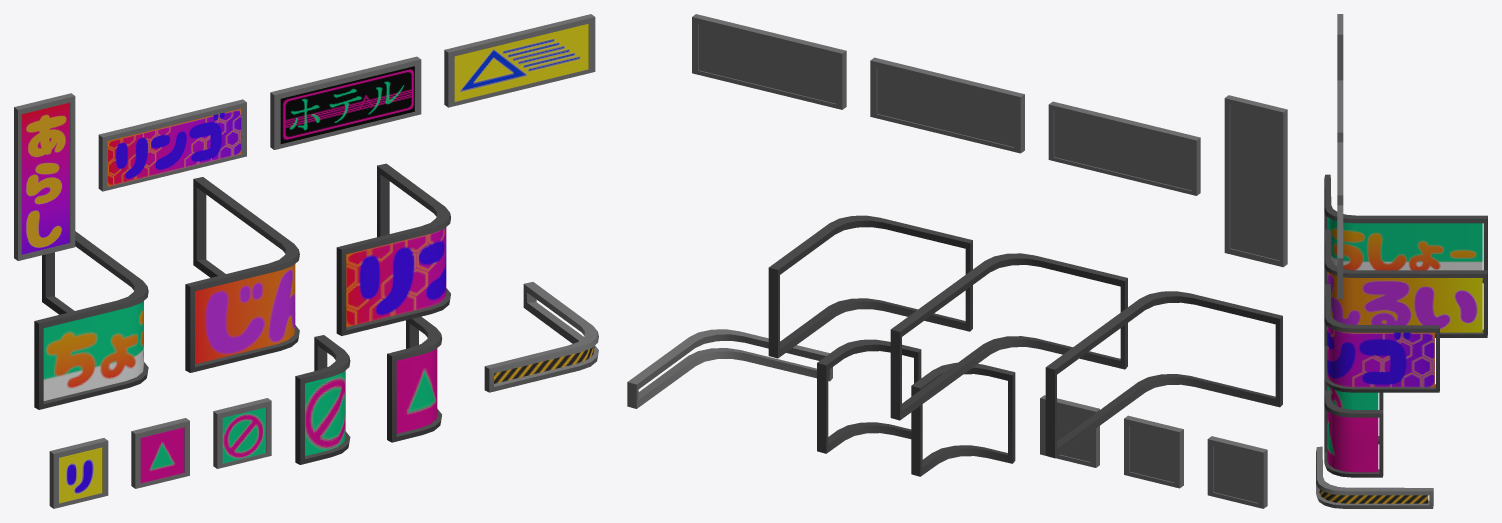
File: signs.glb
The picture shows the model from 3 angles, left to right: view 1: azimuth 30°, elevation 25°; view 2: azimuth 150°, elevation 25°; view 3: azimuth 270°, elevation 25°; orthographic projection. The views are drawn at different scales.
Visible parts, largest first — view 1: Sign_Corner_2, Sign_Corner_3, Sign_Corner_1, Sign_4, Sign_2, Sign_1, Sign_3, Sign_Corner_Small2, Sign_Corner_Small1, Sign_Corner_Hazard, Sign_Small_3, Sign_Small_2 (+1 smaller); view 2: Sign_4, Sign_1, Sign_2, Sign_3, Sign_Corner_3, Sign_Corner_2, Sign_Corner_1, Sign_Corner_Hazard, Sign_Small_3, Sign_Small_2, Sign_Corner_Small2, Sign_Corner_Small1 (+1 smaller); view 3: Sign_Corner_2, Sign_Corner_3, Sign_Corner_1, Sign_Corner_Small1, Sign_Corner_Hazard, Sign_Corner_Small2, Sign_1, Sign_4, Sign_2, Sign_3.
Boxes of the visible parts, left/top/right/bottom form: Sign_Corner_2: left=185, top=177, right=299, bottom=372; Sign_Corner_3: left=34, top=231, right=148, bottom=409; Sign_Corner_1: left=336, top=163, right=450, bottom=335; Sign_4: left=14, top=93, right=75, bottom=260; Sign_2: left=270, top=56, right=421, bottom=149; Sign_1: left=444, top=14, right=595, bottom=107; Sign_3: left=98, top=99, right=246, bottom=191; Sign_Corner_Small2: left=295, top=335, right=350, bottom=464; Sign_Corner_Small1: left=387, top=316, right=442, bottom=442; Sign_Corner_Hazard: left=484, top=282, right=598, bottom=392; Sign_Small_3: left=49, top=438, right=108, bottom=508; Sign_Small_2: left=131, top=418, right=189, bottom=488; Sign_4: left=1224, top=95, right=1287, bottom=267; Sign_1: left=692, top=14, right=846, bottom=109; Sign_2: left=870, top=57, right=1024, bottom=153; Sign_3: left=1048, top=101, right=1200, bottom=195; Sign_Corner_3: left=1045, top=291, right=1282, bottom=458; Sign_Corner_2: left=890, top=253, right=1127, bottom=420; Sign_Corner_1: left=768, top=215, right=972, bottom=358; Sign_Corner_Hazard: left=627, top=329, right=832, bottom=408; Sign_Small_3: left=1207, top=436, right=1267, bottom=508; Sign_Small_2: left=1124, top=415, right=1183, bottom=488; Sign_Corner_Small2: left=911, top=362, right=1015, bottom=476; Sign_Corner_Small1: left=817, top=339, right=921, bottom=453; Sign_Corner_2: left=1324, top=229, right=1487, bottom=337; Sign_Corner_3: left=1324, top=174, right=1487, bottom=283; Sign_Corner_1: left=1324, top=284, right=1439, bottom=392; Sign_Corner_Small1: left=1324, top=390, right=1383, bottom=477; Sign_Corner_Hazard: left=1316, top=446, right=1433, bottom=508; Sign_Corner_Small2: left=1324, top=378, right=1383, bottom=444; Sign_1: left=1337, top=205, right=1343, bottom=298; Sign_4: left=1337, top=14, right=1343, bottom=80; Sign_2: left=1337, top=142, right=1343, bottom=205; Sign_3: left=1337, top=80, right=1343, bottom=142.
Size of the model in its own units: 5.11 by 3.5 by 1.77.
Materials: 3 (1 with a texture image).
